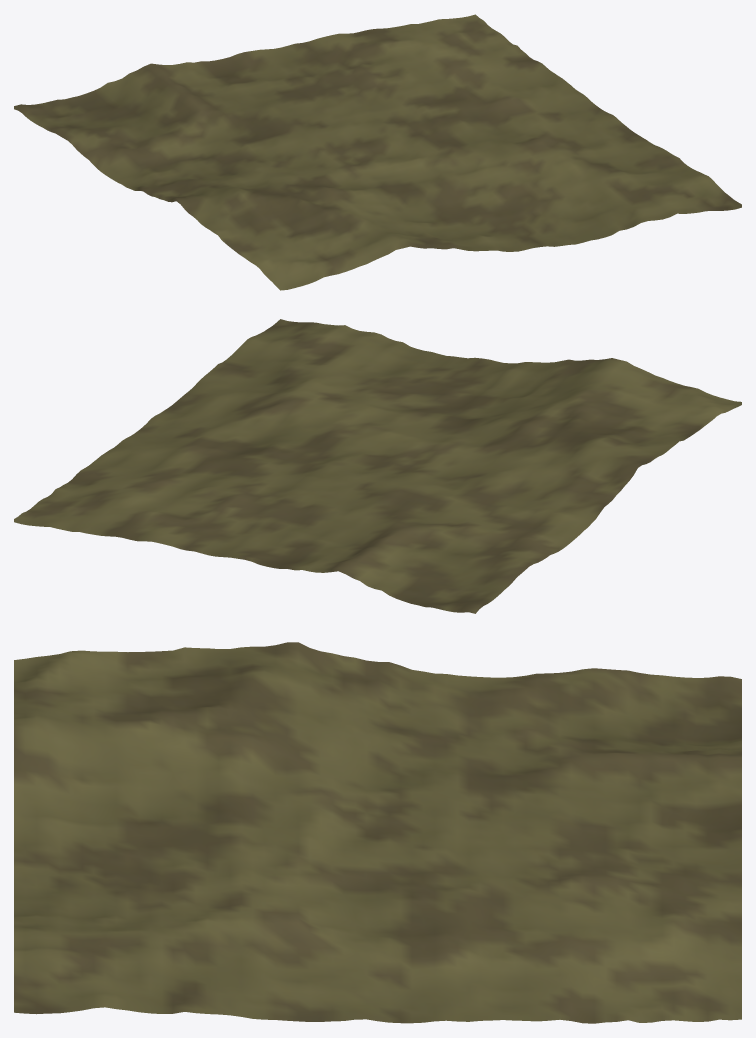
The model's file is land_f_02_06.glb.
The picture shows the model from 3 angles, top to bottom: view 1: azimuth 30°, elevation 25°; view 2: azimuth 150°, elevation 25°; view 3: azimuth 270°, elevation 25°; orthographic projection. The views are drawn at different scales.
Parts seen in each view (by area): view 1: land_f_02_06; view 2: land_f_02_06; view 3: land_f_02_06.
Boxes of the visible parts, box(x1,y1,x2,y2) form: land_f_02_06: box(14, 14, 741, 290); land_f_02_06: box(14, 319, 741, 613); land_f_02_06: box(14, 642, 741, 1023).
Bounding box in the file's own units: 3840 × 453 × 3840.
